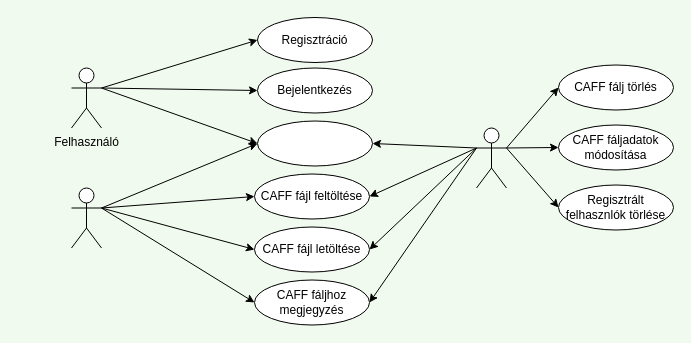
This 691x343 diagram has some shape labels left out. The centre of each missing label's shape, as x and y in pixels:
"Adminisztrátor" belongs at (x=491, y=157).
"Bejelentkezett felhasználó" belongs at (x=86, y=217).
"CAFF fájl keresése" belongs at (x=314, y=143).
